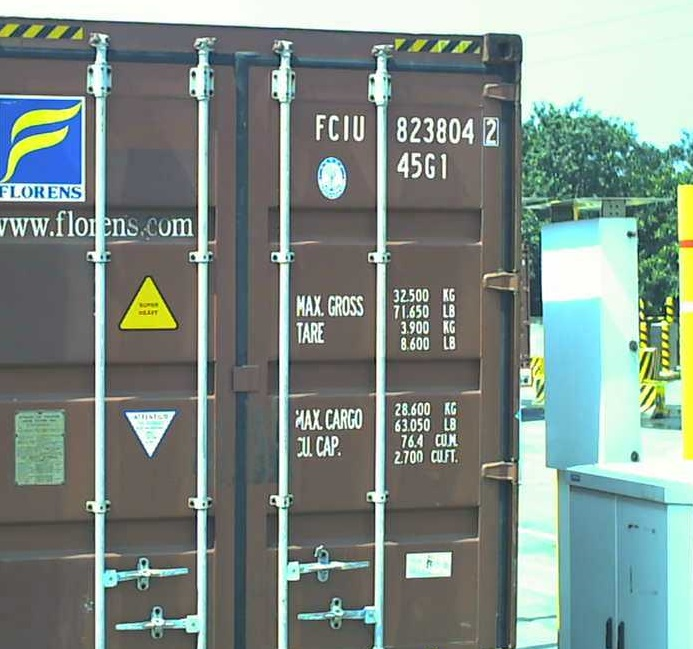container_door: (3, 15, 521, 649)
